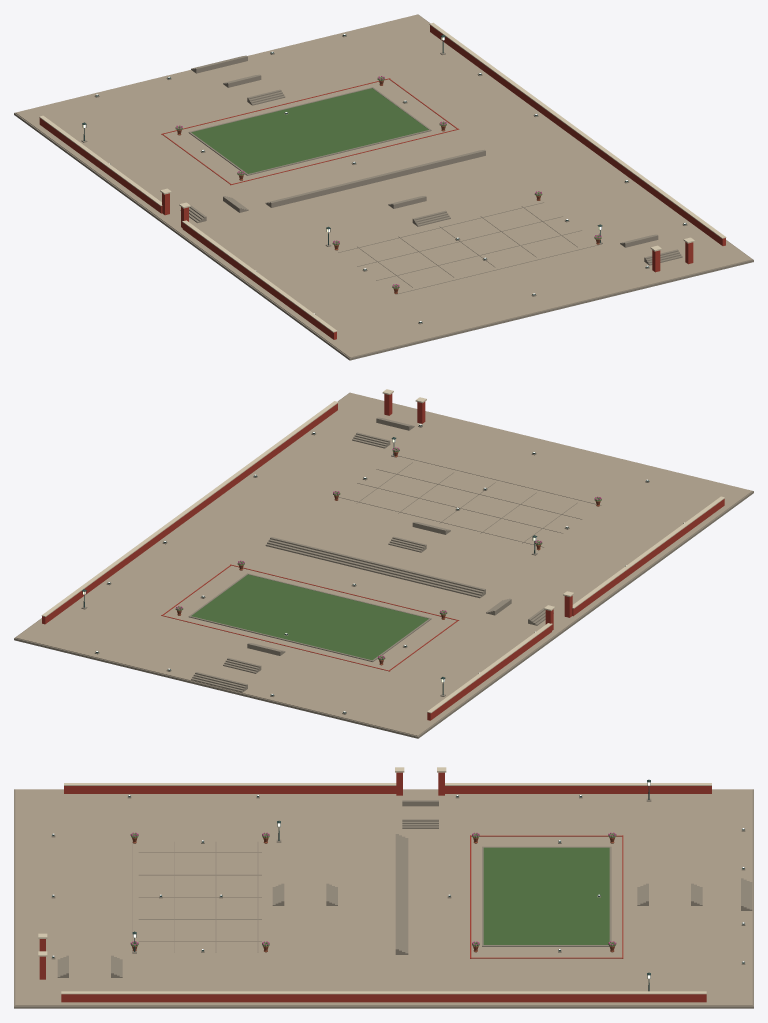
File: KOL_T1_JORASANKO__00_Grounds.fbx
3 views of the same model, one above another, from view 1: azimuth 30°, elevation 25°; view 2: azimuth 150°, elevation 25°; view 3: azimuth 270°, elevation 25° (orthographic). The views are drawn at different scales.
Parts seen in each view (by area): view 1: KOL_T1_JORASANKO__00_Grounds__KOL_T1_EstatePaving, KOL_T1_JORASANKO__00_Grounds__KOL_T1_EstateLawn, KOL_T1_JORASANKO__00_Grounds__KOL_T1_EstateStone, KOL_T1_JORASANKO__00_Grounds__KOL_T1_EstateRed, KOL_T1_JORASANKO__00_Grounds__KOL_T1_EstateIvory; view 2: KOL_T1_JORASANKO__00_Grounds__KOL_T1_EstatePaving, KOL_T1_JORASANKO__00_Grounds__KOL_T1_EstateStone, KOL_T1_JORASANKO__00_Grounds__KOL_T1_EstateLawn, KOL_T1_JORASANKO__00_Grounds__KOL_T1_EstateRed, KOL_T1_JORASANKO__00_Grounds__KOL_T1_EstateIvory; view 3: KOL_T1_JORASANKO__00_Grounds__KOL_T1_EstatePaving, KOL_T1_JORASANKO__00_Grounds__KOL_T1_EstateLawn, KOL_T1_JORASANKO__00_Grounds__KOL_T1_EstateRed, KOL_T1_JORASANKO__00_Grounds__KOL_T1_EstateStone, KOL_T1_JORASANKO__00_Grounds__KOL_T1_EstateIvory.
Part boxes in pixels (x1,y1,x2,y2): KOL_T1_JORASANKO__00_Grounds__KOL_T1_EstatePaving: (16,14,752,357); KOL_T1_JORASANKO__00_Grounds__KOL_T1_EstateLawn: (191,88,428,173); KOL_T1_JORASANKO__00_Grounds__KOL_T1_EstateStone: (14,14,753,360); KOL_T1_JORASANKO__00_Grounds__KOL_T1_EstateRed: (39,25,725,339); KOL_T1_JORASANKO__00_Grounds__KOL_T1_EstateIvory: (39,22,726,332); KOL_T1_JORASANKO__00_Grounds__KOL_T1_EstatePaving: (15,392,752,736); KOL_T1_JORASANKO__00_Grounds__KOL_T1_EstateStone: (14,392,753,738); KOL_T1_JORASANKO__00_Grounds__KOL_T1_EstateLawn: (191,574,428,660); KOL_T1_JORASANKO__00_Grounds__KOL_T1_EstateRed: (42,393,724,720); KOL_T1_JORASANKO__00_Grounds__KOL_T1_EstateIvory: (41,389,725,713); KOL_T1_JORASANKO__00_Grounds__KOL_T1_EstatePaving: (15,789,752,1005); KOL_T1_JORASANKO__00_Grounds__KOL_T1_EstateLawn: (483,847,609,944); KOL_T1_JORASANKO__00_Grounds__KOL_T1_EstateRed: (39,772,711,1002); KOL_T1_JORASANKO__00_Grounds__KOL_T1_EstateStone: (14,789,753,1008); KOL_T1_JORASANKO__00_Grounds__KOL_T1_EstateIvory: (38,767,711,994).
Size of the model in its own units: 196 by 11.65 by 282.
